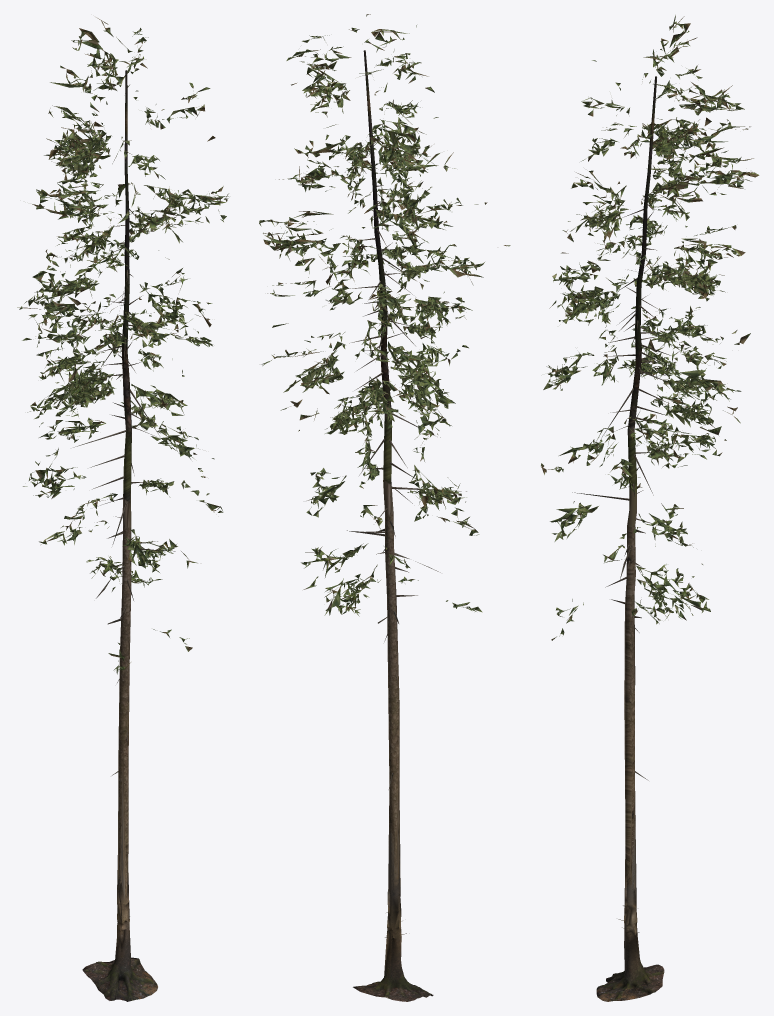
File: fir_tree_01-a-middle.gltf
3 views of the same model, side by side, from view 1: azimuth 30°, elevation 25°; view 2: azimuth 150°, elevation 25°; view 3: azimuth 270°, elevation 25° (orthographic). The views are drawn at different scales.
Visible parts, largest first — view 1: fir_tree_01_a_LOD0; view 2: fir_tree_01_a_LOD0; view 3: fir_tree_01_a_LOD0.
Boxes of the visible parts, x1,y1,x2,y2 form: fir_tree_01_a_LOD0: (17,17,228,1001); fir_tree_01_a_LOD0: (259,14,510,1001); fir_tree_01_a_LOD0: (541,15,759,1001).
Size of the model in its own units: 3.79 by 18.53 by 3.78.
4 materials, 4 textured.
